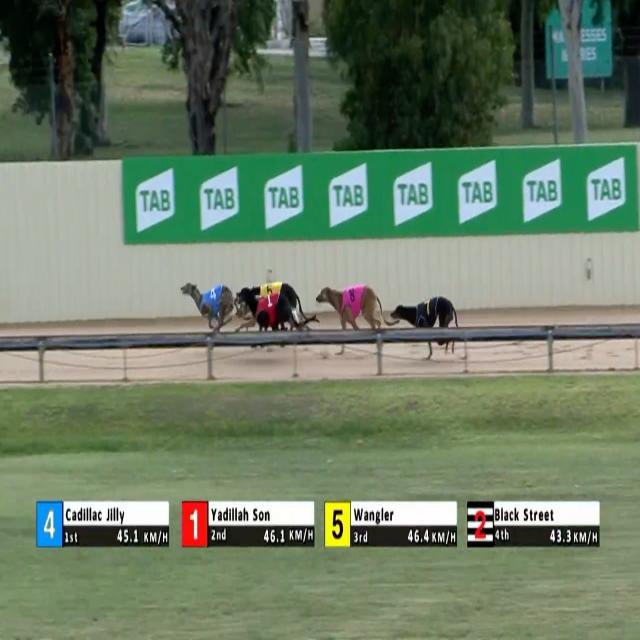dog_eight: (344, 283, 361, 314)
dog_five: (261, 281, 281, 300)
dog_four: (205, 283, 219, 313)
dog_one: (262, 292, 277, 317)
dog_seven: (419, 296, 436, 326)
